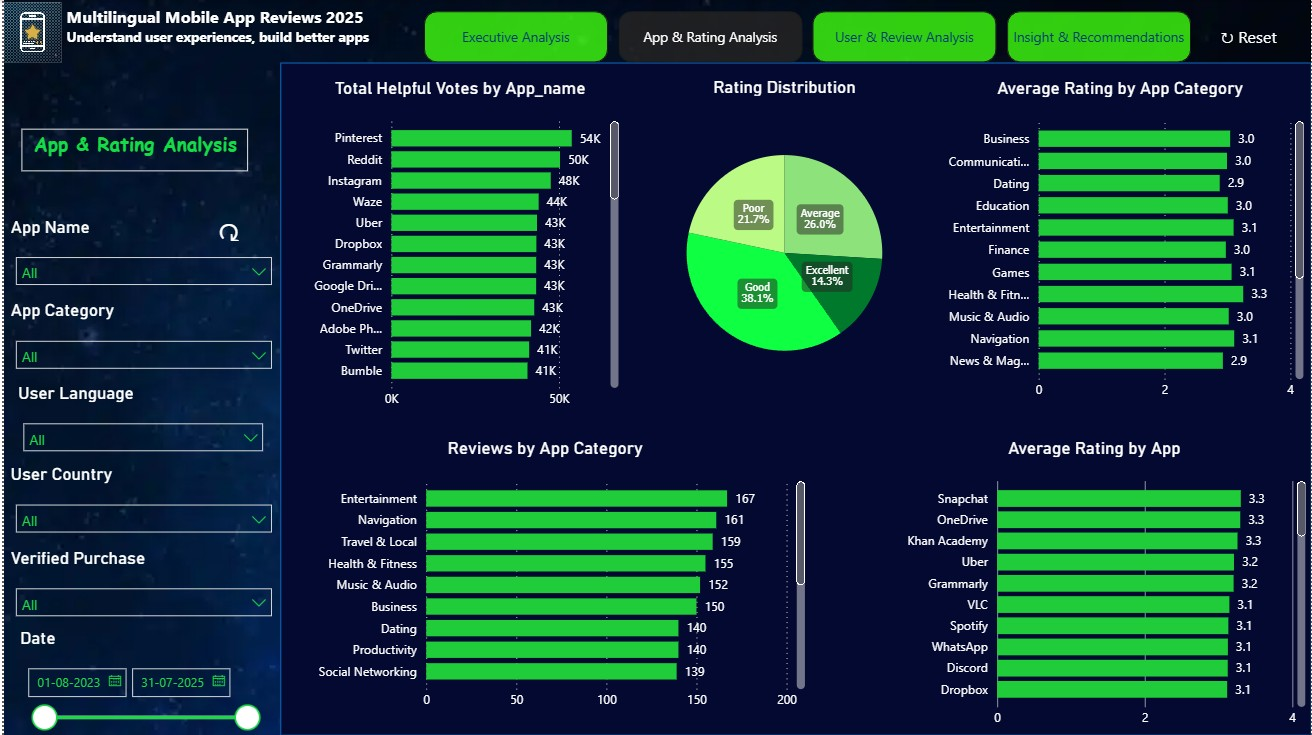

What the dashboard file says about the page in this screenshot:
{"tool":"powerbi","page":{"name":"App & Rating Analysis ","canvas":[1280,720],"ordinal":1},"visuals":[{"type":"image","box":[0,0,1280,720],"z":0},{"type":"image","box":[0,2.4,56.3,58.7],"z":1000},{"type":"textbox","box":[55.8,0,315.1,61.6],"z":2000},{"type":"shape","box":[270,61.4,1010,658.6],"z":3000},{"type":"clusteredBarChart","title":"Average Rating by App","fields":{"Y":["Measure_Table.Average Rating"],"Category":["multilingual_mobile_app_reviews_2025.App_name"]},"box":[855,427.5,423.8,292.5],"z":4000},{"type":"clusteredBarChart","title":"Reviews by App Category","fields":{"Category":["multilingual_mobile_app_reviews_2025.App_category"],"Y":["Measure_Table.Total Reviews"]},"box":[270.2,428,518.5,275.1],"z":5000},{"type":"clusteredBarChart","fields":{"Category":["multilingual_mobile_app_reviews_2025.App_name"],"Y":["Measure_Table.Total Helpful Votes"]},"box":[286.1,75.8,320.4,332.6],"z":6000},{"type":"pageNavigator","box":[410.4,11.1,752.5,50],"z":7000},{"type":"textbox","title":"App & Rating Analysis","box":[17.5,126.2,221.2,41.2],"z":8000},{"type":"actionButton","title":"↻ Reset","box":[1167.3,15.3,100.2,40.3],"z":9000},{"type":"clusteredBarChart","title":"Average Rating by App Category","fields":{"Category":["multilingual_mobile_app_reviews_2025.App_category"],"Y":["Measure_Table.Average Rating"]},"box":[907.3,75.8,369.3,324.1],"z":10000},{"type":"pieChart","title":"Rating Distribution","fields":{"Category":["multilingual_mobile_app_reviews_2025.Rating_Cateogory"],"Y":["Measure_Table.Total Reviews"]},"box":[593.1,74.6,341.2,315.5],"z":11000},{"type":"slicer","title":"App Name","fields":{"Values":["multilingual_mobile_app_reviews_2025.App_name"]},"box":[3.8,211.7,266.2,67],"z":12000},{"type":"slicer","title":"App Category","fields":{"Values":["multilingual_mobile_app_reviews_2025.App_category"]},"box":[3.8,294,266.2,67],"z":13000},{"type":"slicer","title":"User Language","fields":{"Values":["multilingual_mobile_app_reviews_2025.Review_language"]},"box":[11,374.2,250.7,67.3],"z":14000},{"type":"slicer","title":"User Country","fields":{"Values":["multilingual_mobile_app_reviews_2025.User_country"]},"box":[4.1,454.2,266.2,67],"z":15000},{"type":"slicer","title":"Verified Purchase","fields":{"Values":["multilingual_mobile_app_reviews_2025.Verified_purchase"]},"box":[4.1,535.2,266.2,67],"z":16000},{"type":"slicer","title":"Date","fields":{"Values":["multilingual_mobile_app_reviews_2025.Review_date"]},"box":[11,613.9,251.1,105.7],"z":17000},{"type":"actionButton","box":[169.7,211.5,100,40],"z":18000}]}

Visuals, with their boxes in screenshot pixels (x1, y1, x2, y2), scaled from the page's 1280x720 canvas onto the 1312x735 screenshot:
image: select_region(0, 0, 1311, 734)
image: select_region(0, 2, 58, 62)
textbox: select_region(57, 0, 380, 63)
shape: select_region(277, 63, 1311, 734)
"Average Rating by App" clusteredBarChart: select_region(876, 436, 1311, 734)
"Reviews by App Category" clusteredBarChart: select_region(277, 437, 808, 718)
clusteredBarChart - multilingual_mobile_app_reviews_2025.App_name x Measure_Table.Total Helpful Votes: select_region(293, 77, 622, 417)
pageNavigator: select_region(421, 11, 1192, 62)
"App & Rating Analysis" textbox: select_region(18, 129, 245, 171)
"↻ Reset" actionButton: select_region(1196, 16, 1299, 57)
"Average Rating by App Category" clusteredBarChart: select_region(930, 77, 1309, 408)
"Rating Distribution" pieChart: select_region(608, 76, 958, 398)
"App Name" slicer: select_region(4, 216, 277, 285)
"App Category" slicer: select_region(4, 300, 277, 369)
"User Language" slicer: select_region(11, 382, 268, 451)
"User Country" slicer: select_region(4, 464, 277, 532)
"Verified Purchase" slicer: select_region(4, 546, 277, 615)
"Date" slicer: select_region(11, 627, 269, 734)
actionButton: select_region(174, 216, 276, 257)
